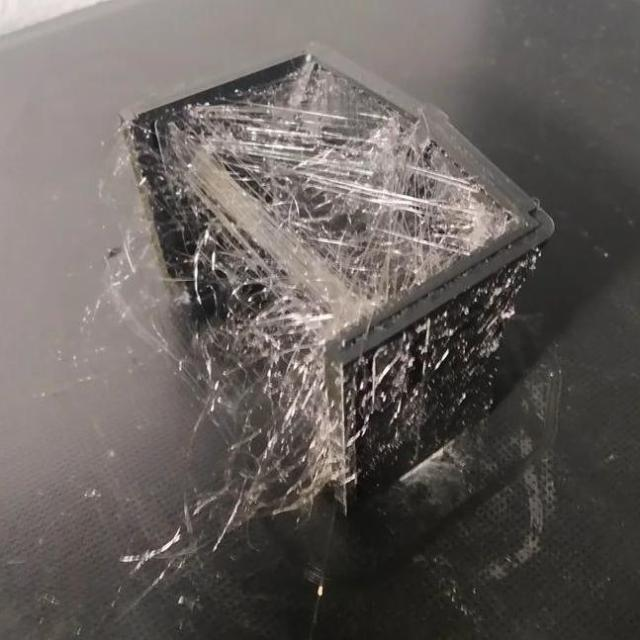stringing: (202, 260, 325, 523), (259, 98, 446, 261)
